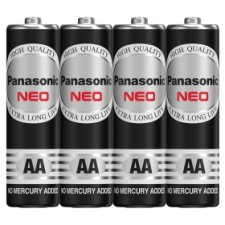Battery: (166, 15, 221, 209), (4, 15, 59, 208), (59, 16, 114, 208), (113, 16, 167, 209)
